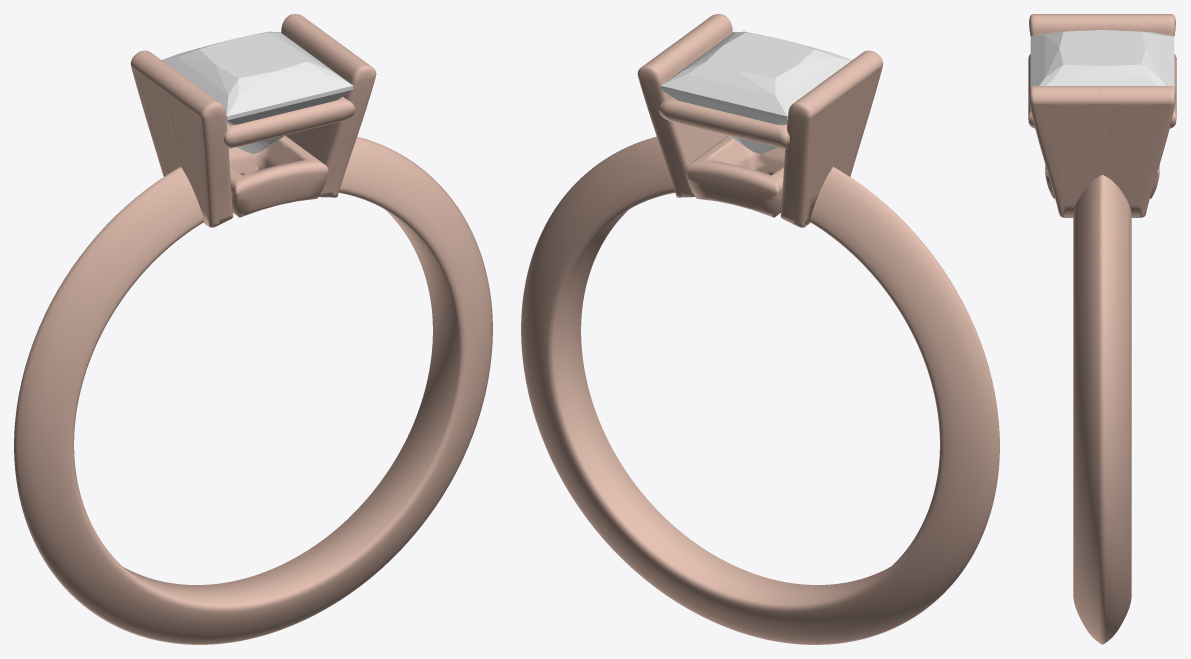
Rendered from diamond-princess-rosegold-halfmoonbezel-knifeedge-solitaire.glb.
3 renders of one model, left to right at view 1: azimuth 30°, elevation 25°; view 2: azimuth 150°, elevation 25°; view 3: azimuth 270°, elevation 25°, orthographic. The views are drawn at different scales.
Parts seen in each view (by area): view 1: metal, stone; view 2: metal, stone; view 3: metal, stone.
Boxes of the visible parts, x1,y1,x2,y2 form: metal: [14, 14, 492, 644]; stone: [161, 31, 353, 153]; metal: [521, 14, 999, 644]; stone: [660, 31, 852, 153]; metal: [1028, 14, 1176, 644]; stone: [1030, 30, 1174, 86].
Size of the model in its own units: 20.51 by 23.85 by 5.6.
